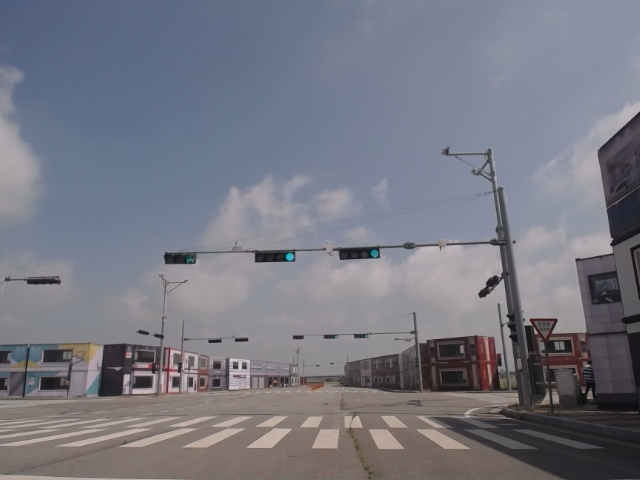straight_green_4: (255, 251, 295, 261), (341, 248, 380, 258)
